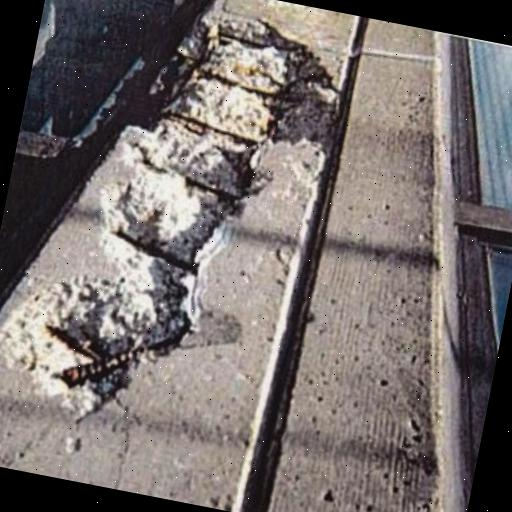spalling: (0, 6, 339, 418)
